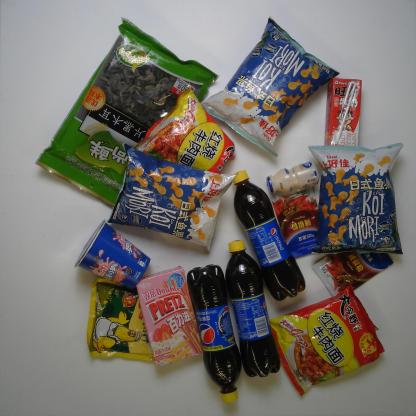Dessert: (133, 264, 206, 370), (73, 218, 152, 290)
Dried Food: (32, 14, 221, 213)
Drink: (228, 168, 308, 302), (185, 262, 245, 406), (222, 236, 282, 378)
Instant Noodles: (265, 282, 386, 398), (131, 83, 238, 180)
Milk: (322, 75, 364, 152), (263, 160, 320, 196)
Puffed Food: (195, 15, 341, 158), (104, 140, 239, 255), (304, 140, 408, 257)
Seasoner: (85, 274, 163, 364), (310, 242, 396, 303), (268, 182, 327, 264)
